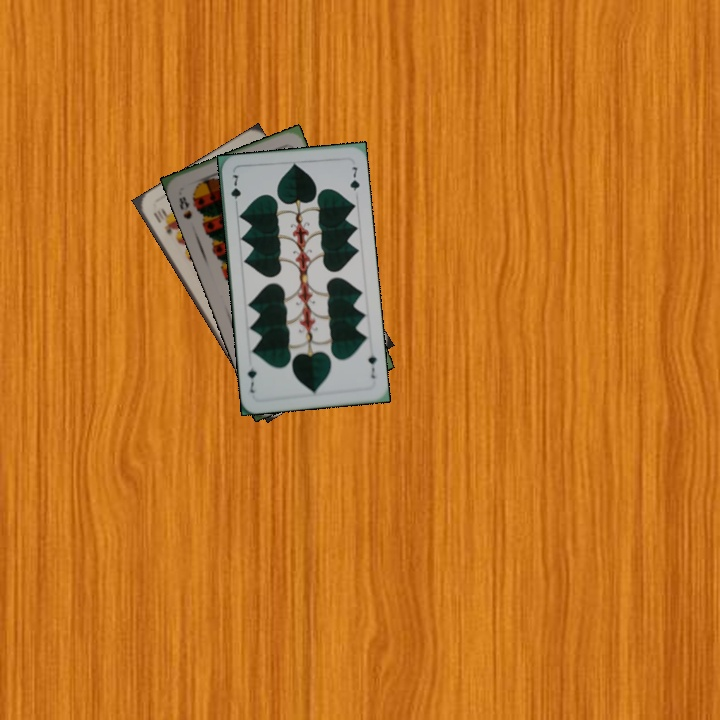E10: (149, 205, 176, 238)
G7: (227, 171, 243, 210), (364, 351, 379, 381)
S8: (175, 192, 195, 222)
